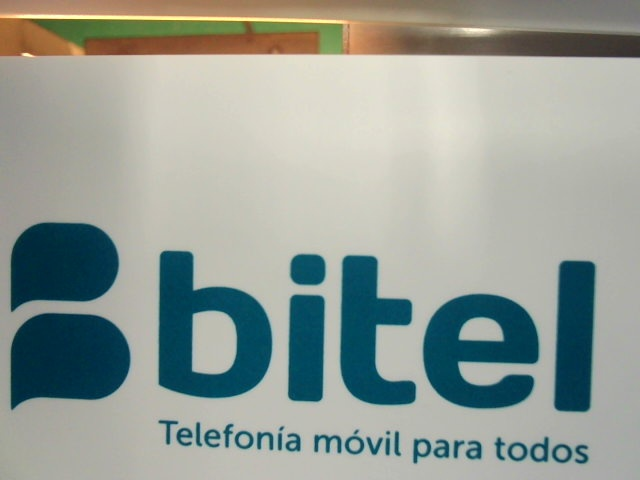BE_bitel: (4, 213, 605, 419)
